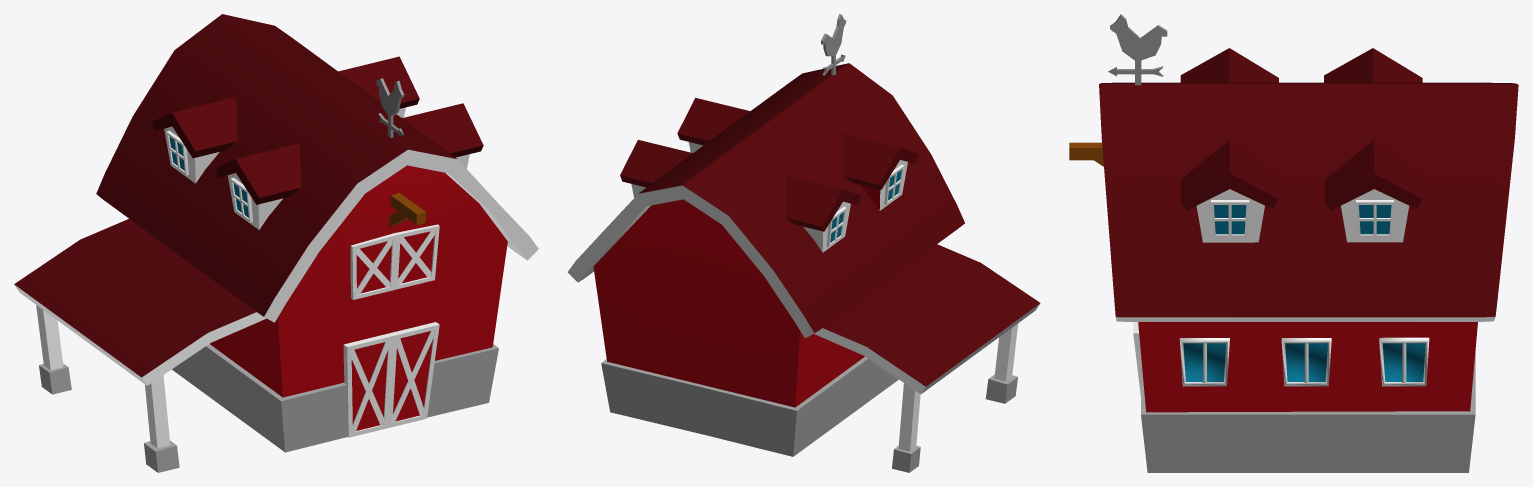
Rendered from Barn_New.fbx.
The picture shows the model from 3 angles, left to right: view 1: azimuth 30°, elevation 25°; view 2: azimuth 150°, elevation 25°; view 3: azimuth 270°, elevation 25°; orthographic projection. The views are drawn at different scales.
Parts seen in each view (by area): view 1: Barn_Roof, Barn_Walls, Barn_Low_Roof, Barn_High_Windows, Barn_Base, Barn_Gate, Barn_Big_Window, Barn_Columns, Barn_Windvane, Barn_Wood_Beam; view 2: Barn_Roof, Barn_Walls, Barn_Low_Roof, Barn_Base, Barn_High_Windows, Barn_Columns, Barn_Windvane; view 3: Barn_Roof, Barn_Walls, Barn_Base, Barn_High_Windows, Barn_Low_Windows, Barn_Windvane, Barn_Wood_Beam.
Boxes of the visible parts, left/top/right/bottom form: Barn_Roof: left=96, top=14, right=538, bottom=322; Barn_Walls: left=210, top=165, right=507, bottom=397; Barn_Low_Roof: left=14, top=219, right=266, bottom=385; Barn_High_Windows: left=152, top=56, right=483, bottom=229; Barn_Base: left=172, top=344, right=498, bottom=452; Barn_Gate: left=343, top=322, right=439, bottom=437; Barn_Big_Window: left=350, top=224, right=439, bottom=299; Barn_Columns: left=36, top=305, right=179, bottom=472; Barn_Windvane: left=376, top=78, right=404, bottom=137; Barn_Wood_Beam: left=389, top=192, right=425, bottom=226; Barn_Roof: left=567, top=63, right=964, bottom=338; Barn_Walls: left=593, top=199, right=864, bottom=407; Barn_Low_Roof: left=814, top=244, right=1040, bottom=393; Barn_Base: left=601, top=357, right=898, bottom=456; Barn_High_Windows: left=620, top=98, right=917, bottom=252; Barn_Columns: left=892, top=323, right=1018, bottom=472; Barn_Windvane: left=821, top=14, right=846, bottom=75; Barn_Roof: left=1099, top=82, right=1518, bottom=321; Barn_Walls: left=1138, top=322, right=1477, bottom=412; Barn_Base: left=1141, top=351, right=1475, bottom=472; Barn_High_Windows: left=1180, top=48, right=1423, bottom=242; Barn_Low_Windows: left=1179, top=337, right=1429, bottom=386; Barn_Windvane: left=1108, top=14, right=1167, bottom=85; Barn_Wood_Beam: left=1069, top=142, right=1103, bottom=166.
Size of the model in its own units: 356 by 320 by 325.
